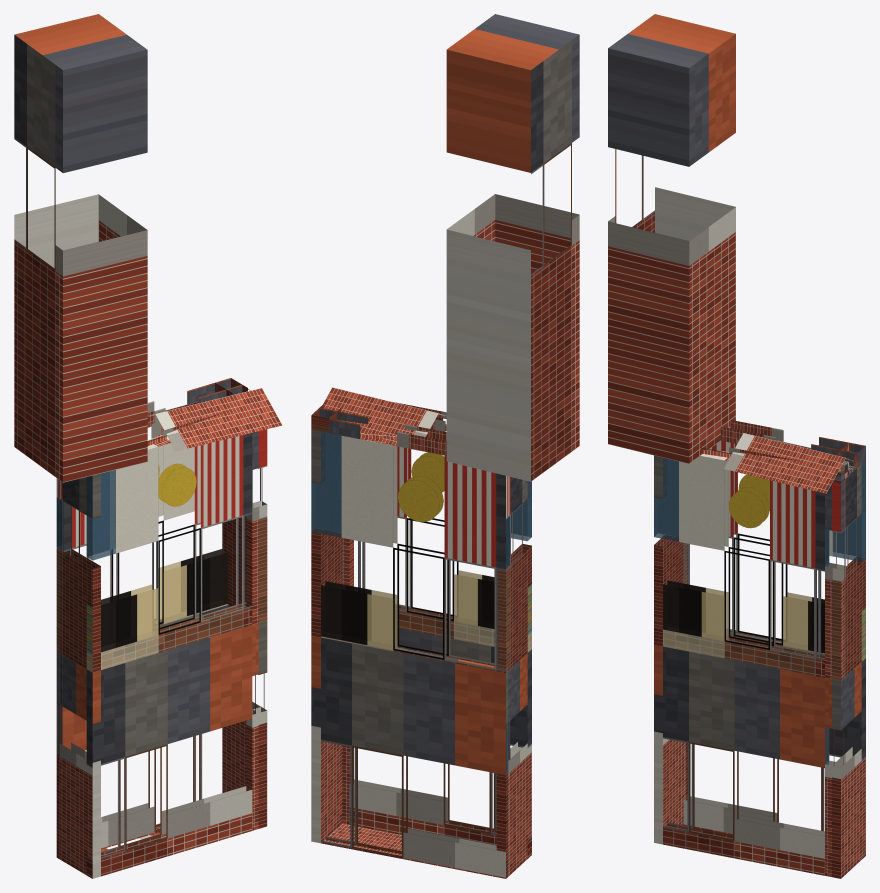
3 views of the same model, side by side, from view 1: azimuth 30°, elevation 25°; view 2: azimuth 150°, elevation 25°; view 3: azimuth 330°, elevation 25° (orthographic). The views are drawn at different scales.
Visible parts, largest first — view 1: 238572343__chimney_0_xb, 238572343__wall_0_xb, 238572343__wall_4_xb, 238572343__wall_3_xb, 238572343__wall_2_xb, 238572343__wall_0_xf, 238572343_roof_-1_xb, 238572343__wall_1_xb, 238572343__wall_3_xf, 238572343__cornice_3, 238572343__cornice_0; view 2: 238572343__chimney_0_xb, 238572343__wall_3_xb, 238572343__wall_0_xb, 238572343__wall_4_xb, 238572343__wall_3_xf, 238572343__wall_2_xb, 238572343_roof_1_xb, 238572343__wall_0_xf, 238572343__cornice_3, 238572343__wall_1_xb, 238572343__base; view 3: 238572343__chimney_0_xb, 238572343__wall_0_xb, 238572343__wall_3_xb, 238572343__wall_2_xb, 238572343__wall_4_xb, 238572343__wall_0_xf, 238572343__wall_1_xb, 238572343_roof_-1_xb, 238572343__wall_3_xf, 238572343__cornice_3.
Boxes of the visible parts, x1=… form: 238572343__chimney_0_xb: x1=14, y1=14, x2=147, y2=482; 238572343__wall_0_xb: x1=86, y1=433, x2=252, y2=878; 238572343__wall_4_xb: x1=56, y1=473, x2=100, y2=878; 238572343__wall_3_xb: x1=56, y1=443, x2=228, y2=849; 238572343__wall_2_xb: x1=222, y1=429, x2=267, y2=828; 238572343__wall_0_xf: x1=87, y1=470, x2=157, y2=653; 238572343_roof_-1_xb: x1=155, y1=388, x2=282, y2=451; 238572343__wall_1_xb: x1=246, y1=429, x2=267, y2=830; 238572343__wall_3_xf: x1=57, y1=498, x2=227, y2=754; 238572343__cornice_3: x1=147, y1=378, x2=242, y2=427; 238572343__cornice_0: x1=147, y1=410, x2=230, y2=446; 238572343__chimney_0_xb: x1=446, y1=14, x2=579, y2=481; 238572343__wall_3_xb: x1=311, y1=432, x2=510, y2=878; 238572343__wall_0_xb: x1=349, y1=446, x2=531, y2=858; 238572343__wall_4_xb: x1=496, y1=476, x2=531, y2=878; 238572343__wall_3_xf: x1=311, y1=432, x2=509, y2=774; 238572343__wall_2_xb: x1=311, y1=430, x2=342, y2=843; 238572343_roof_1_xb: x1=323, y1=387, x2=438, y2=450; 238572343__wall_0_xf: x1=419, y1=457, x2=531, y2=634; 238572343__cornice_3: x1=319, y1=408, x2=446, y2=455; 238572343__wall_1_xb: x1=342, y1=538, x2=353, y2=824; 238572343__base: x1=324, y1=823, x2=401, y2=855; 238572343__chimney_0_xb: x1=608, y1=14, x2=735, y2=463; 238572343__wall_0_xb: x1=654, y1=454, x2=829, y2=875; 238572343__wall_3_xb: x1=683, y1=441, x2=865, y2=859; 238572343__wall_2_xb: x1=832, y1=460, x2=865, y2=878; 238572343__wall_4_xb: x1=654, y1=455, x2=687, y2=844; 238572343__wall_0_xf: x1=654, y1=458, x2=828, y2=764; 238572343__wall_1_xb: x1=825, y1=479, x2=845, y2=878; 238572343_roof_-1_xb: x1=724, y1=433, x2=845, y2=493; 238572343__wall_3_xf: x1=783, y1=460, x2=865, y2=659; 238572343__cornice_3: x1=721, y1=420, x2=865, y2=466.
Bounding box in the file's own units: 0.3968 × 1.4 × 0.1549.
1 material, 1 textured.
